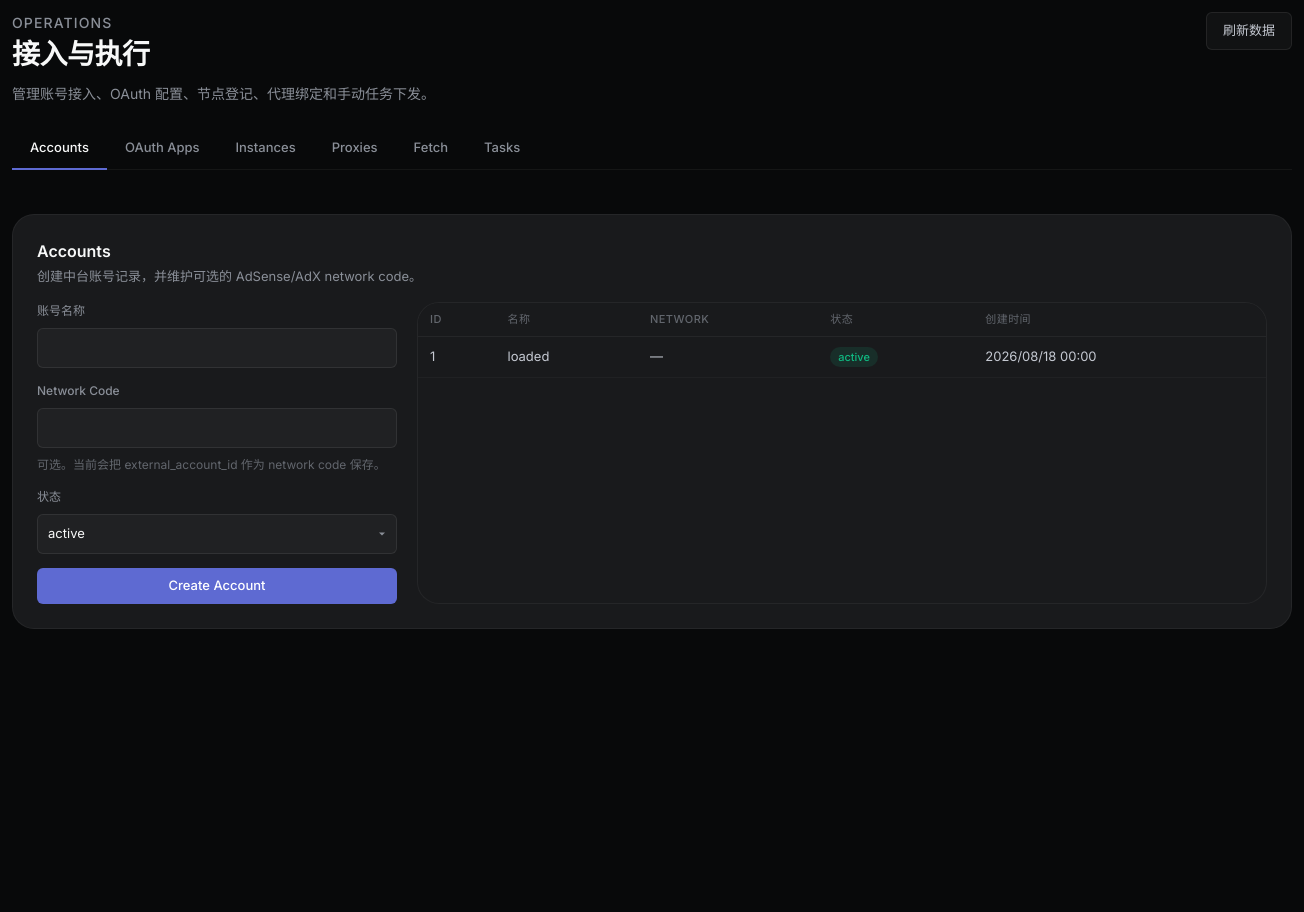
Test: OperationsPage progressive loading › disables refresh while the active resource is loading and prevents concurrent force requests
Click the button "刷新数据".
click(1249, 31)  # box 1206,12 -> 1292,50
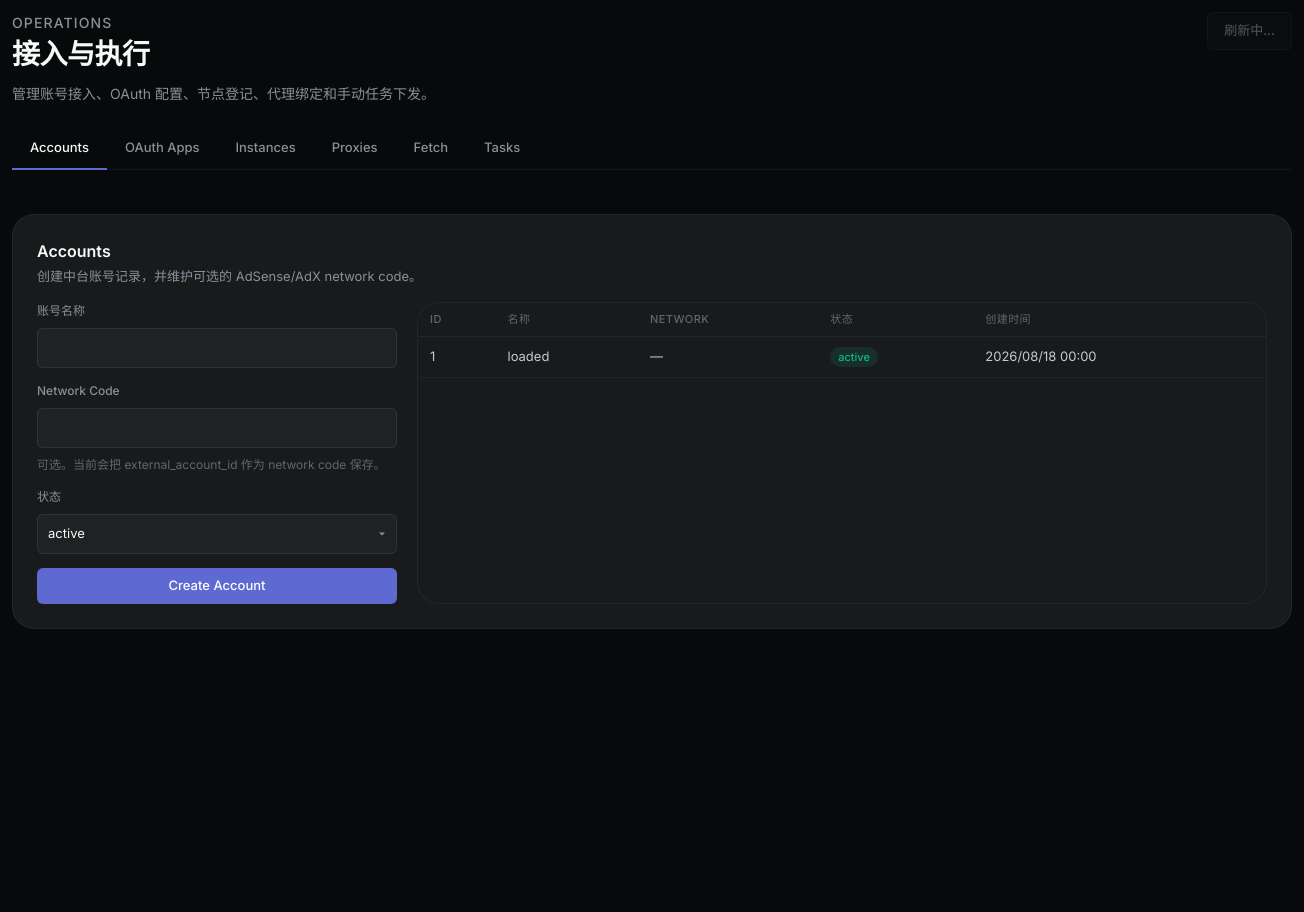
Expected: the button "刷新中..." is disabled
Click the button "刷新中...".
click(1250, 31)  # box 1207,12 -> 1292,50
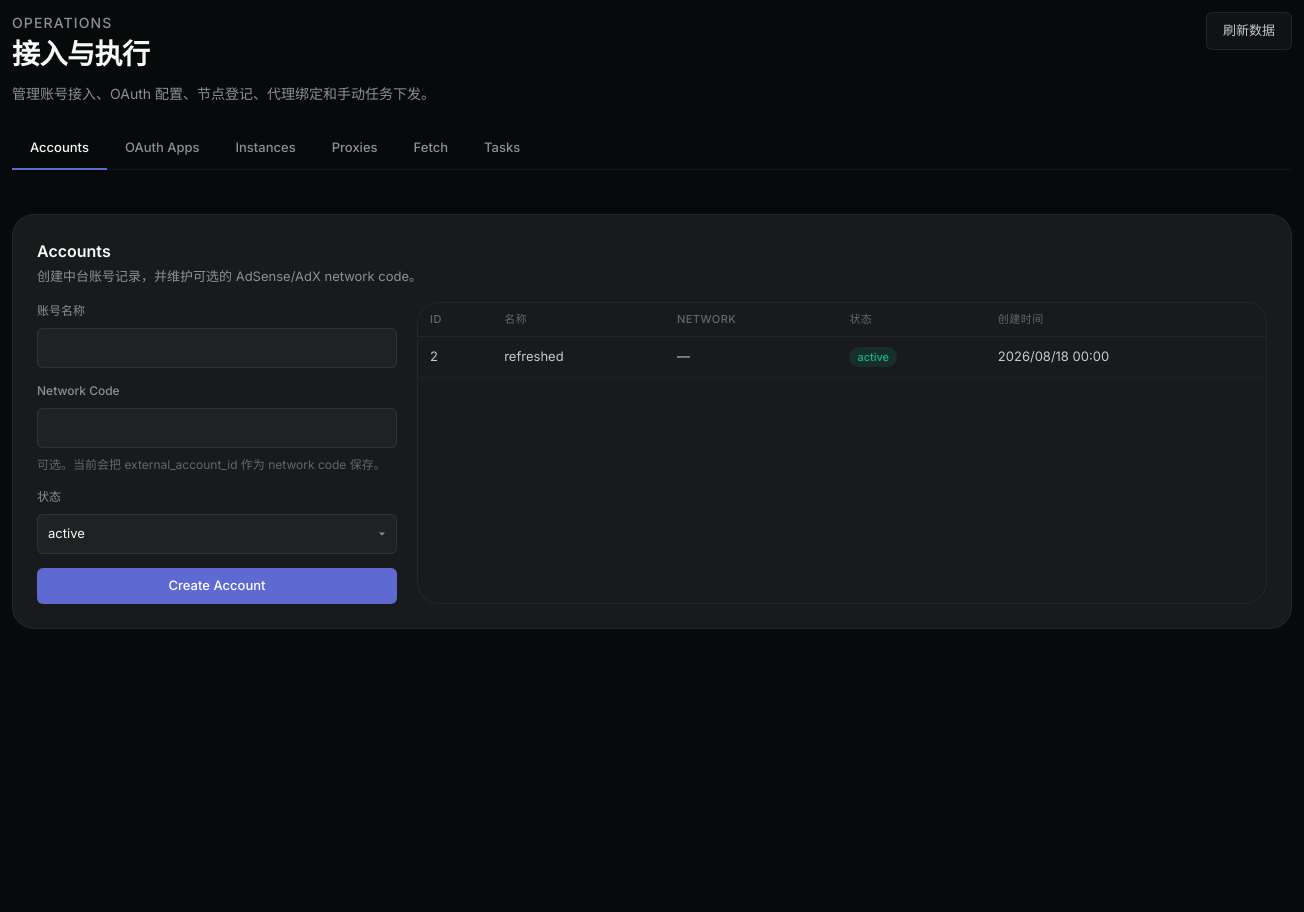
Expected: the button "刷新数据" is enabled, 1206,12 -> 1292,50
